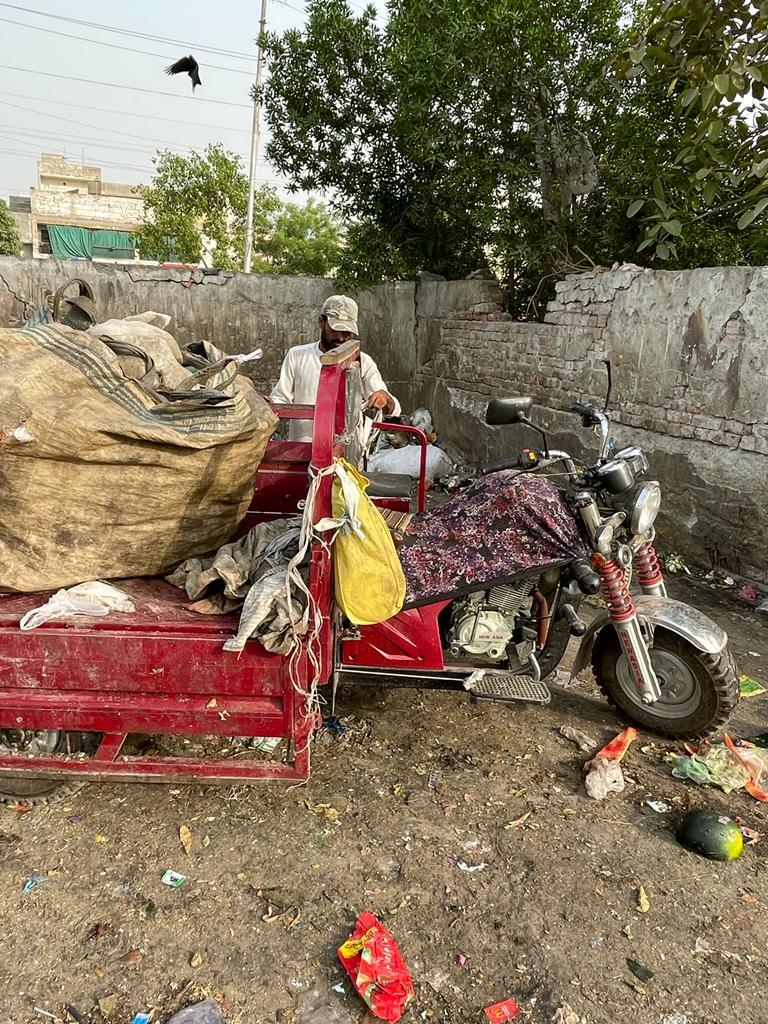garbage: (0, 296, 302, 637), (523, 700, 768, 881)
